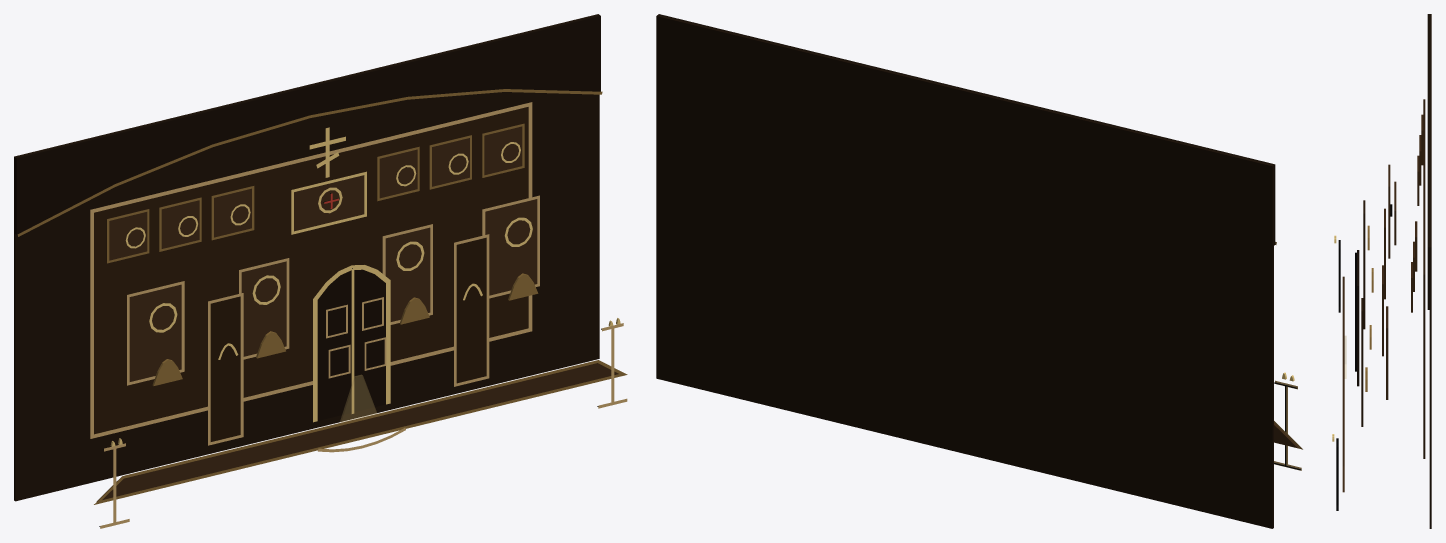
File: loc-hram-naos.glb
The picture shows the model from 3 angles, left to right: view 1: azimuth 30°, elevation 25°; view 2: azimuth 150°, elevation 25°; view 3: azimuth 270°, elevation 25°; orthographic projection. The views are drawn at different scales.
Visible parts, largest first — view 1: loc-hram-naos; view 2: loc-hram-naos; view 3: loc-hram-naos.
Boxes of the visible parts, x1=… form: loc-hram-naos: x1=14, y1=14, x2=627, y2=528; loc-hram-naos: x1=656, y1=14, x2=1302, y2=528; loc-hram-naos: x1=1332, y1=14, x2=1431, y2=528.
Size of the model in its own units: 5.34 by 3 by 0.96.
